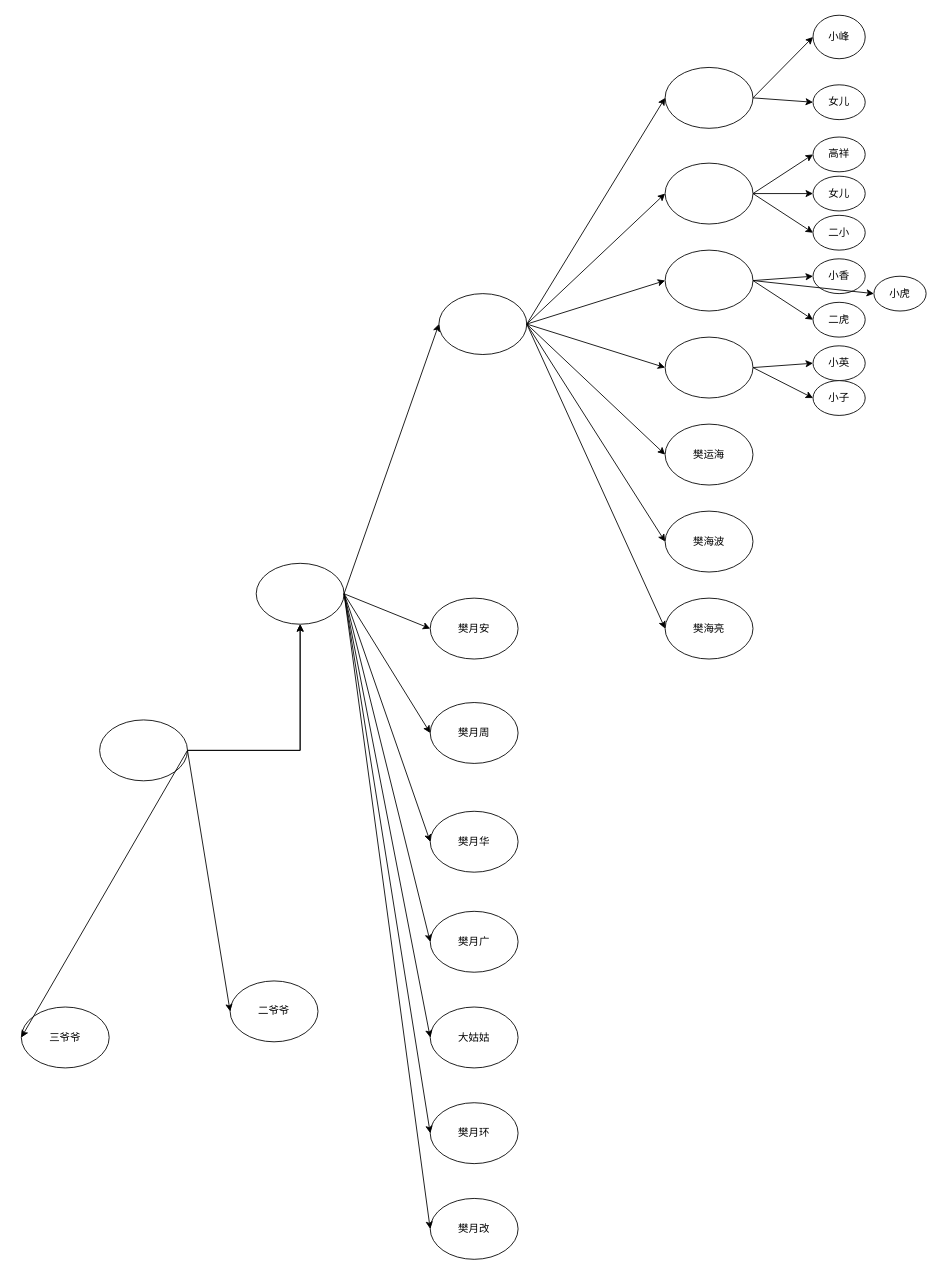
The diagram is 941 pixels wide and 1275 high, and some of its shapes have lost their labels. Here are the shapes that lost their labels. From the top down, the centre of each, then its label:
pixel 708 97: 樊大彩
pixel 708 193: 樊二彩
pixel 708 280: 樊运山
pixel 482 324: 樊月辰
pixel 708 367: 樊运波
pixel 299 593: 我爷爷
pixel 143 750: 曾祖
